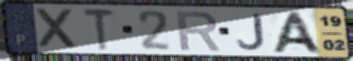2: (137, 9, 172, 51)
A: (268, 11, 325, 55)
J: (235, 13, 267, 51)
R: (174, 10, 224, 52)
T: (82, 7, 118, 52)
X: (33, 6, 81, 50)
